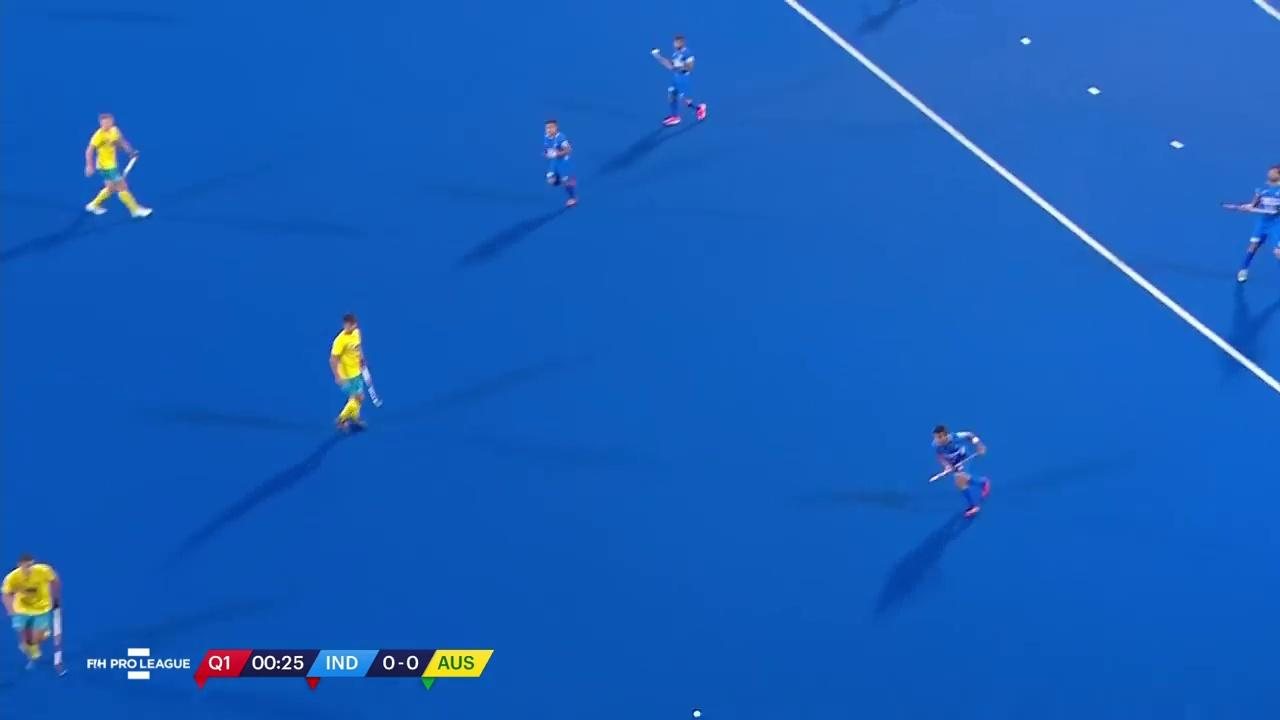ball: (685, 698, 708, 720)
